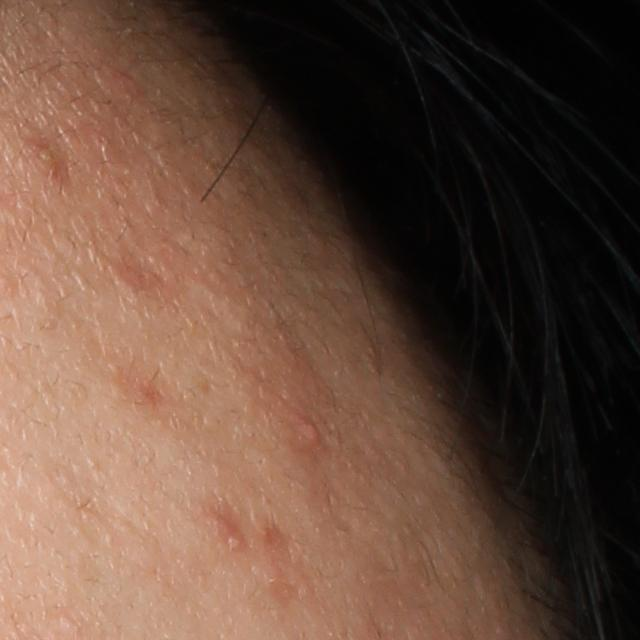papule: (203, 507, 248, 549), (298, 416, 323, 447)
